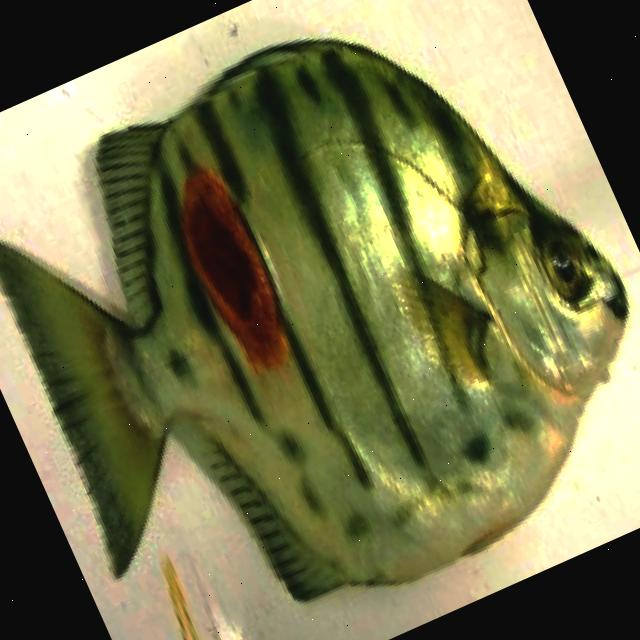Edwardsiella Ictaluri -Bacterial Red Disease-: (0, 40, 627, 600)
